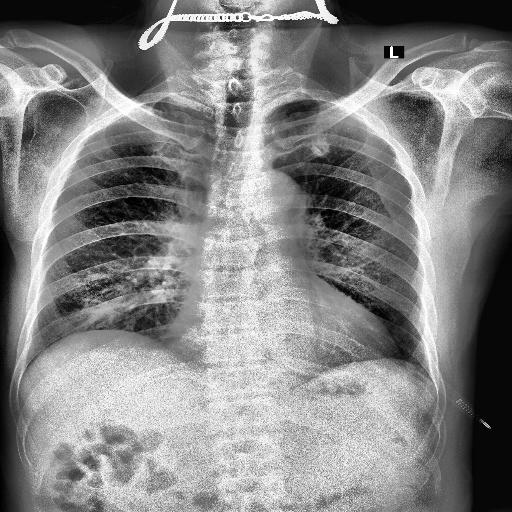0- Aortic enlargement: (237, 169, 302, 220), (250, 172, 306, 227), (250, 168, 304, 220)
3- Cardiomegaly: (162, 320, 404, 379), (164, 316, 400, 372), (169, 314, 397, 366)
